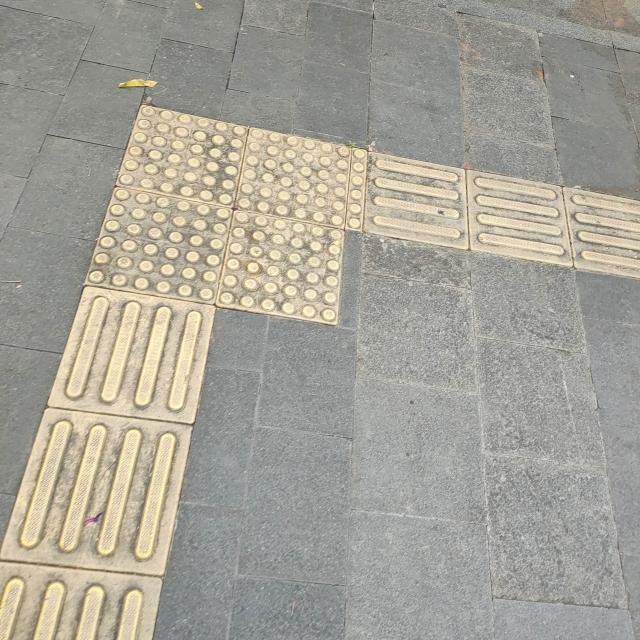kanan: (41, 65, 584, 370)
